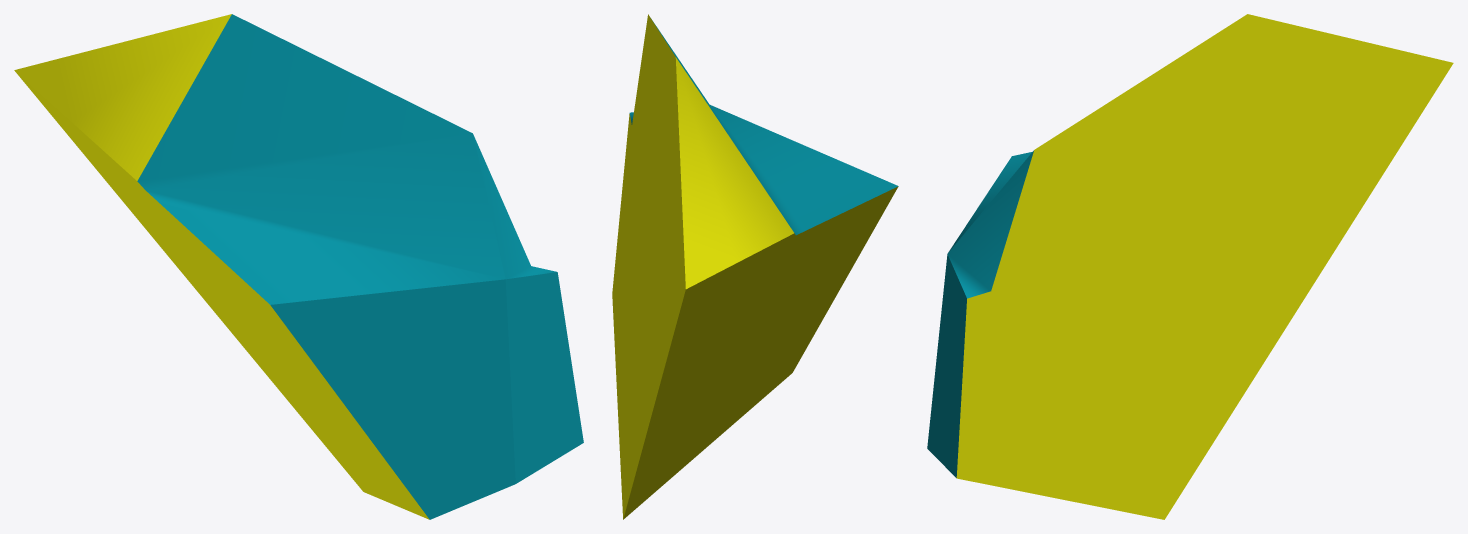
3 views of the same model, side by side, from view 1: azimuth 30°, elevation 25°; view 2: azimuth 150°, elevation 25°; view 3: azimuth 270°, elevation 25° (orthographic). The views are drawn at different scales.
Visible parts, largest first — view 1: polySurface18; view 2: polySurface18; view 3: polySurface18.
Part boxes in pixels (x1,y1,x2,y2): polySurface18: (14,14,583,519); polySurface18: (612,14,898,519); polySurface18: (927,14,1453,519).
Bounding box in the file's own units: 0.1381 × 0.1946 × 0.2006.
